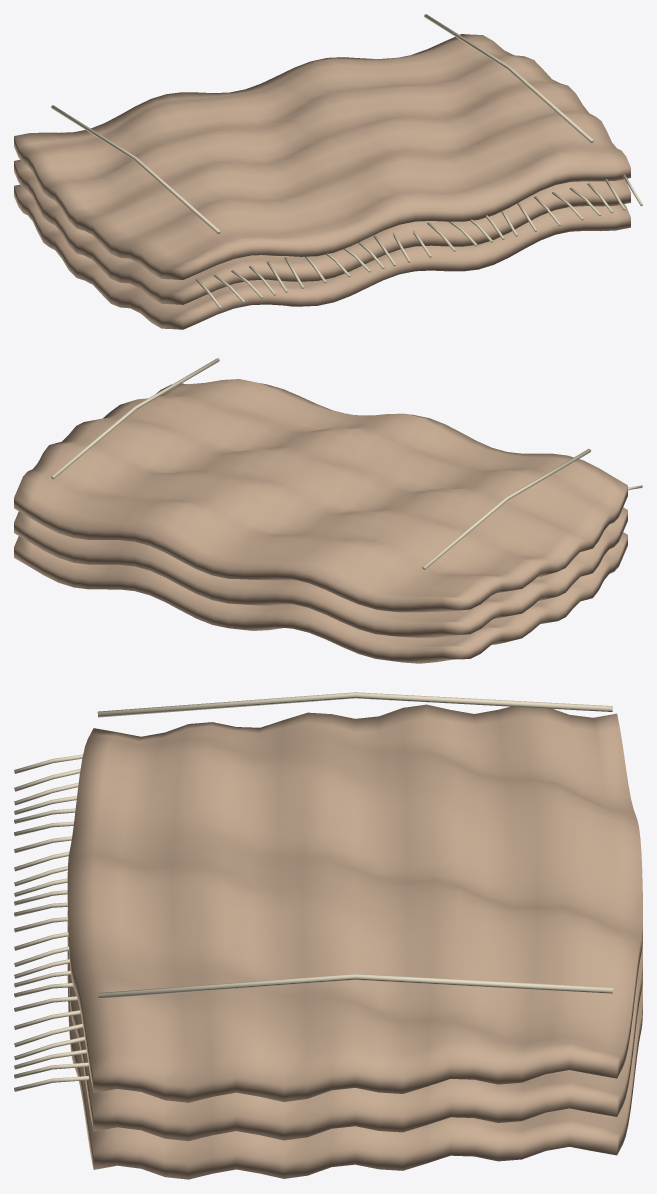
The model's file is throw_blanket.glb.
The picture shows the model from 3 angles, top to bottom: view 1: azimuth 30°, elevation 25°; view 2: azimuth 150°, elevation 25°; view 3: azimuth 270°, elevation 25°; orthographic projection. The views are drawn at different scales.
Visible parts, largest first — view 1: throw_blanket__body, throw_blanket__accent; view 2: throw_blanket__body, throw_blanket__accent; view 3: throw_blanket__body, throw_blanket__accent.
Part boxes in pixels (<box>): throw_blanket__body: <box>14,34,630,329</box>; throw_blanket__accent: <box>51,14,642,308</box>; throw_blanket__body: <box>14,379,627,663</box>; throw_blanket__accent: <box>51,358,642,569</box>; throw_blanket__body: <box>67,704,642,1179</box>; throw_blanket__accent: <box>14,692,612,1091</box>.
Size of the model in its own units: 0.58 by 0.1376 by 0.4155.
